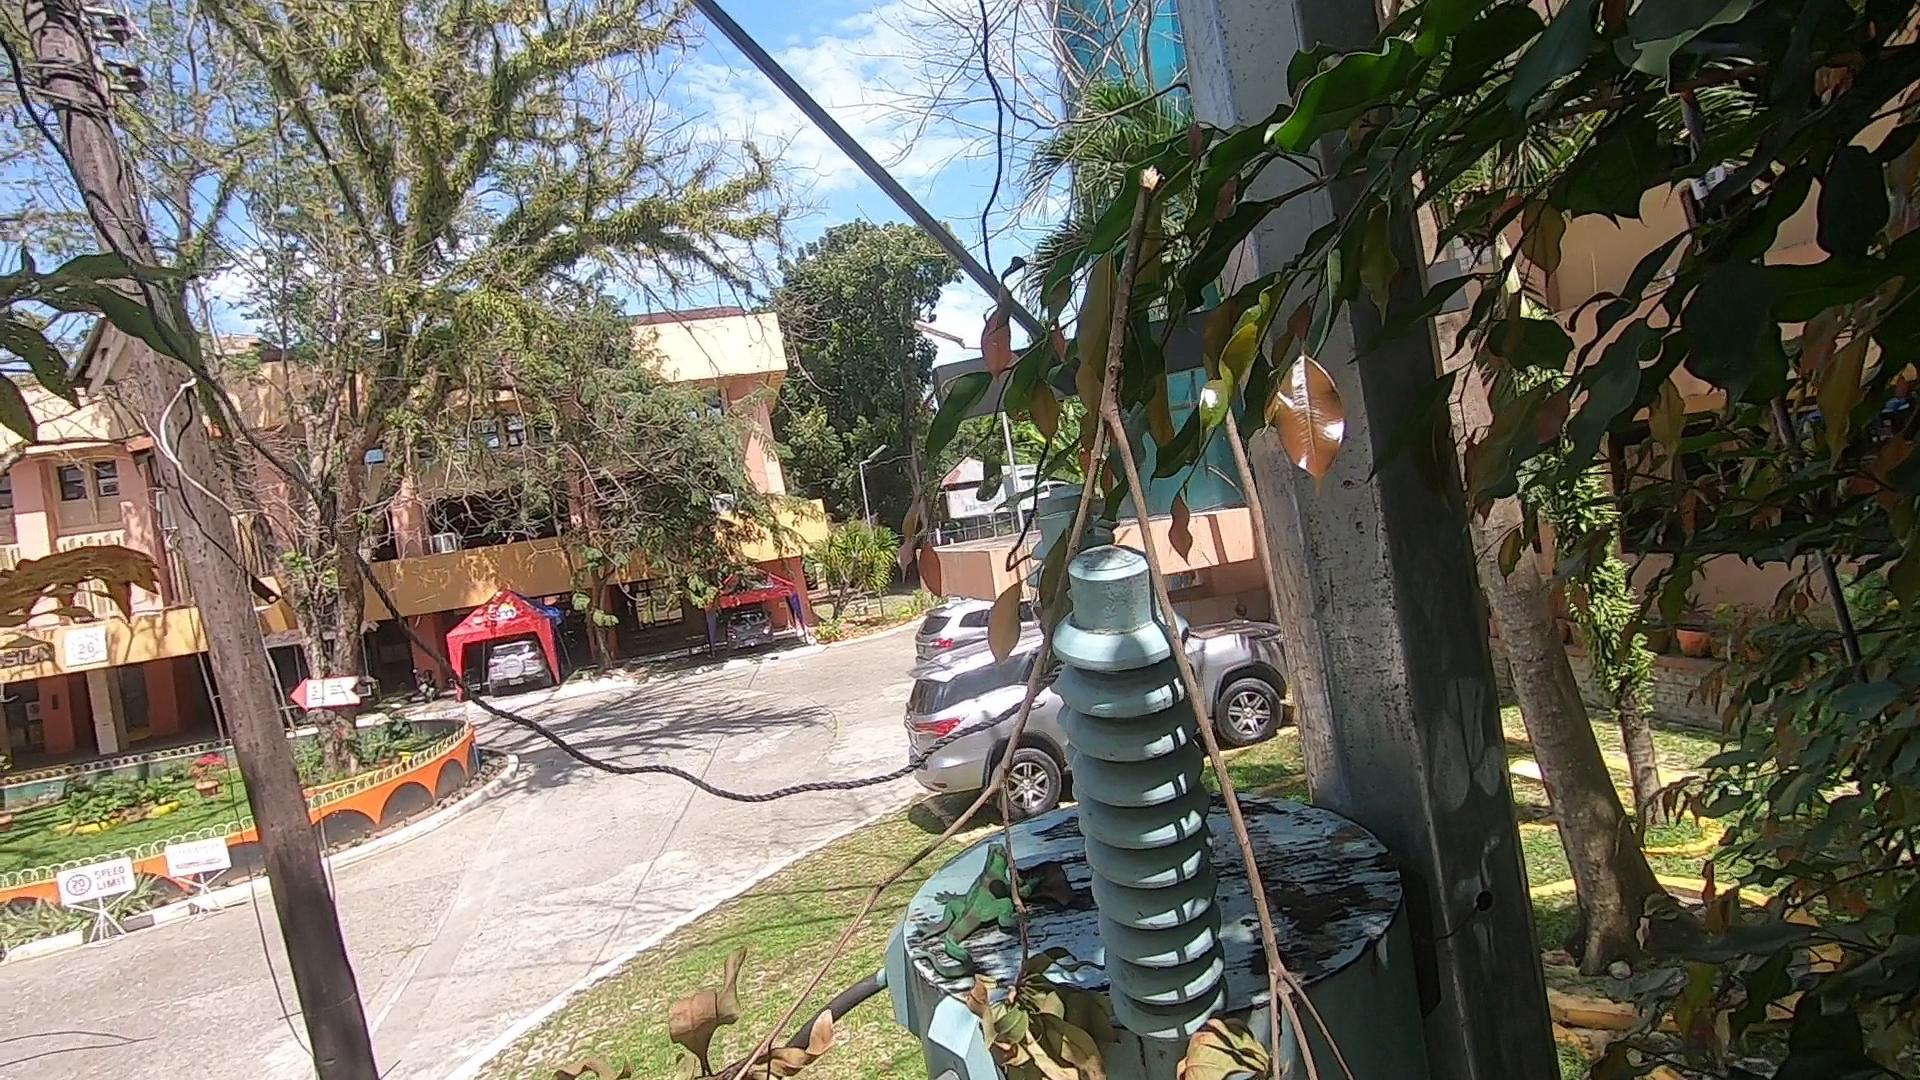branch with leaves: (520, 160, 1342, 1077)
leaf: (996, 851, 1083, 916)
